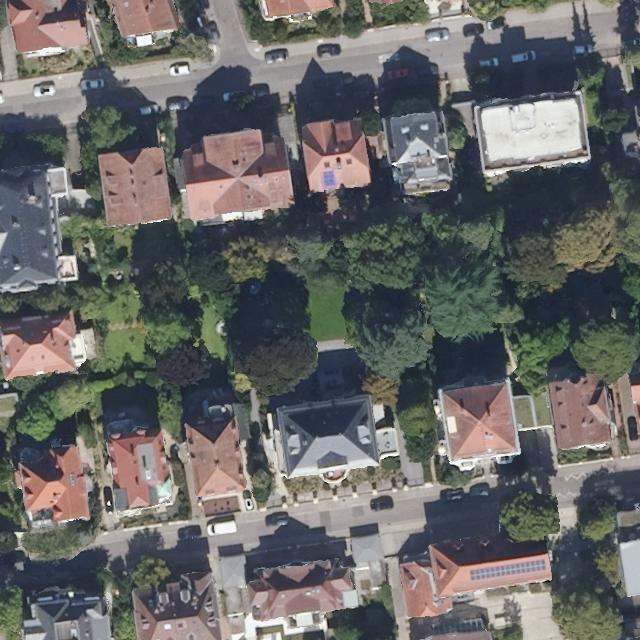PV: (469, 558, 547, 582), (322, 170, 336, 187)
